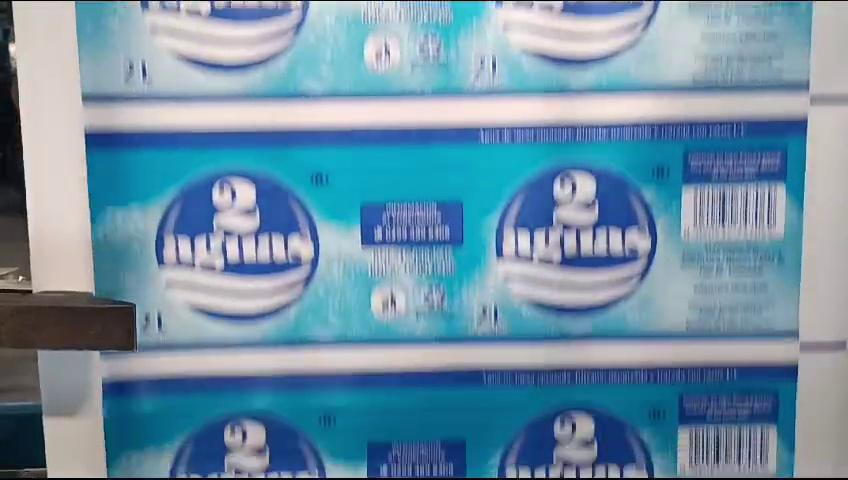print: (79, 120, 817, 353)
